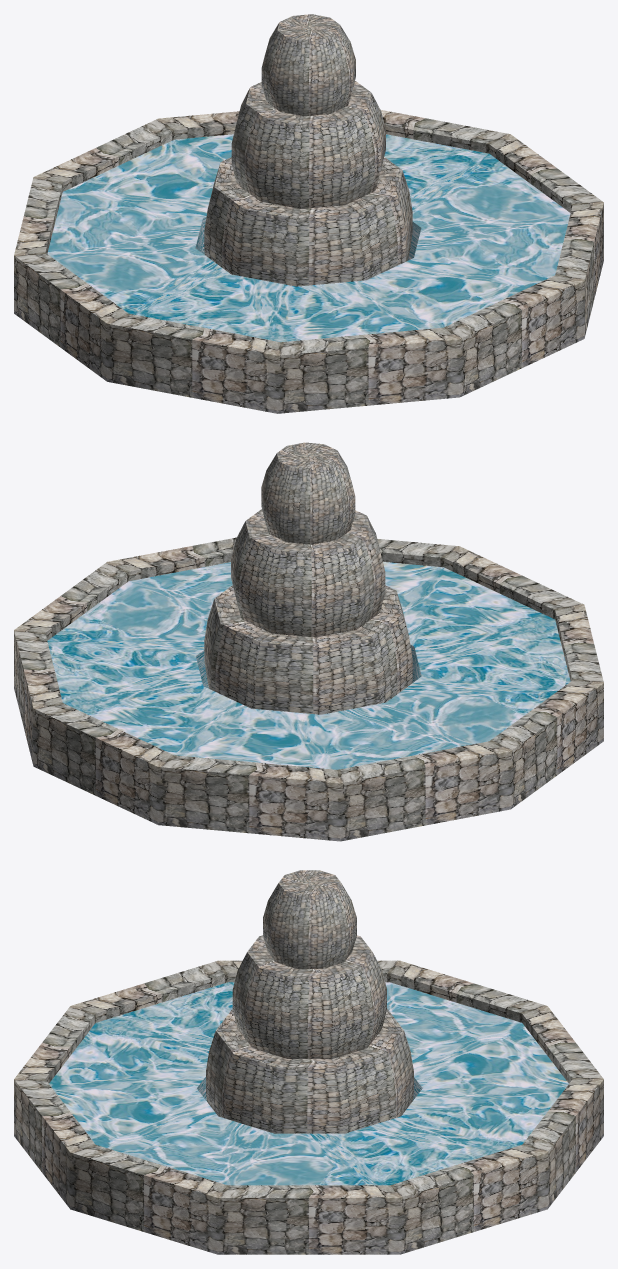
File: brunnen.DAE
The picture shows the model from 3 angles, top to bottom: view 1: azimuth 30°, elevation 25°; view 2: azimuth 150°, elevation 25°; view 3: azimuth 270°, elevation 25°; orthographic projection. The views are drawn at different scales.
Visible parts, largest first — view 1: Tube001, Wasser, Tube002, Tube003, Tube004; view 2: Tube001, Wasser, Tube002, Tube003, Tube004; view 3: Tube001, Wasser, Tube002, Tube003, Tube004.
Part boxes in pixels (box(x1,y1,x2,y2)): Tube001: box(14, 110, 603, 413); Wasser: box(47, 134, 570, 342); Tube002: box(204, 157, 412, 286); Tube003: box(231, 81, 385, 208); Tube004: box(261, 14, 355, 116); Tube001: box(14, 537, 603, 841); Wasser: box(47, 562, 570, 769); Tube002: box(204, 585, 412, 714); Tube003: box(231, 509, 385, 637); Tube004: box(261, 442, 355, 544); Tube001: box(14, 960, 603, 1254); Wasser: box(49, 982, 568, 1185); Tube002: box(206, 1008, 413, 1133); Tube003: box(232, 935, 386, 1058); Tube004: box(263, 870, 356, 968).
Bounding box in the file's own units: 89.4 × 94 × 44.55.
